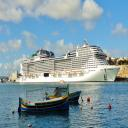cruises: (20, 42, 122, 85)
